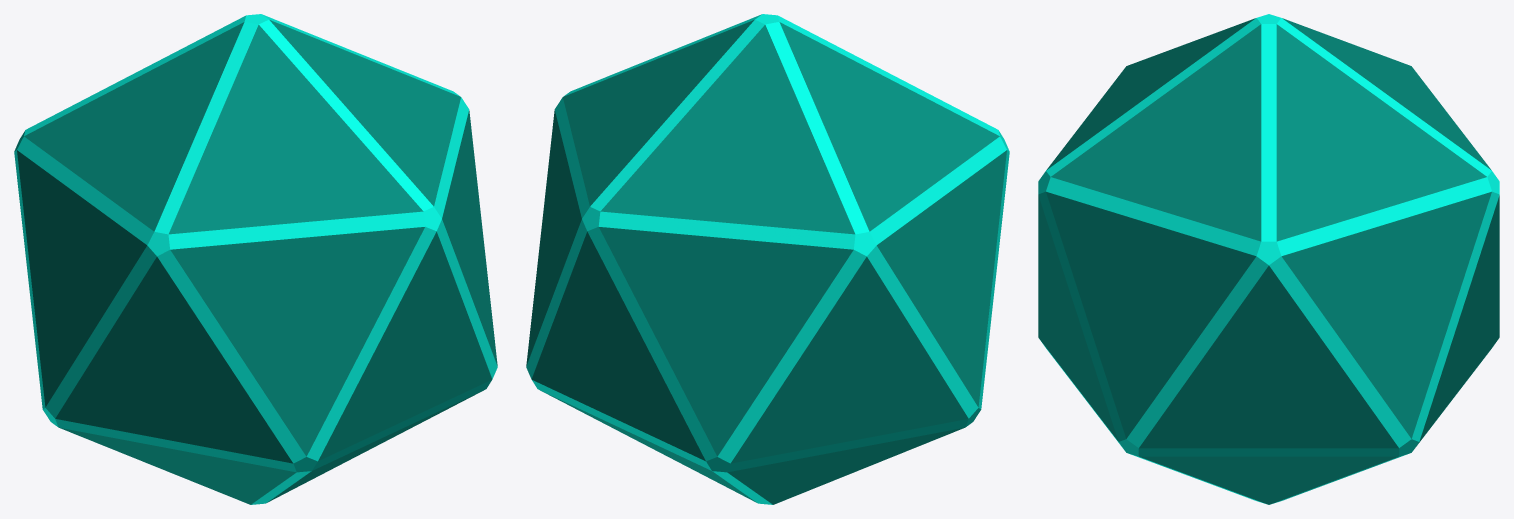
File: ICOSPHERE_OPAQUE.glb
3 views of the same model, side by side, from view 1: azimuth 30°, elevation 25°; view 2: azimuth 150°, elevation 25°; view 3: azimuth 270°, elevation 25° (orthographic).
Parts seen in each view (by area): view 1: Icosphere; view 2: Icosphere; view 3: Icosphere.
Boxes of the visible parts, x1=… form: Icosphere: x1=14, y1=14, x2=497, y2=504; Icosphere: x1=526, y1=14, x2=1009, y2=504; Icosphere: x1=1038, y1=14, x2=1499, y2=504.
Size of the model in its own units: 1.84 by 2 by 1.75.
1 material, 1 textured.
